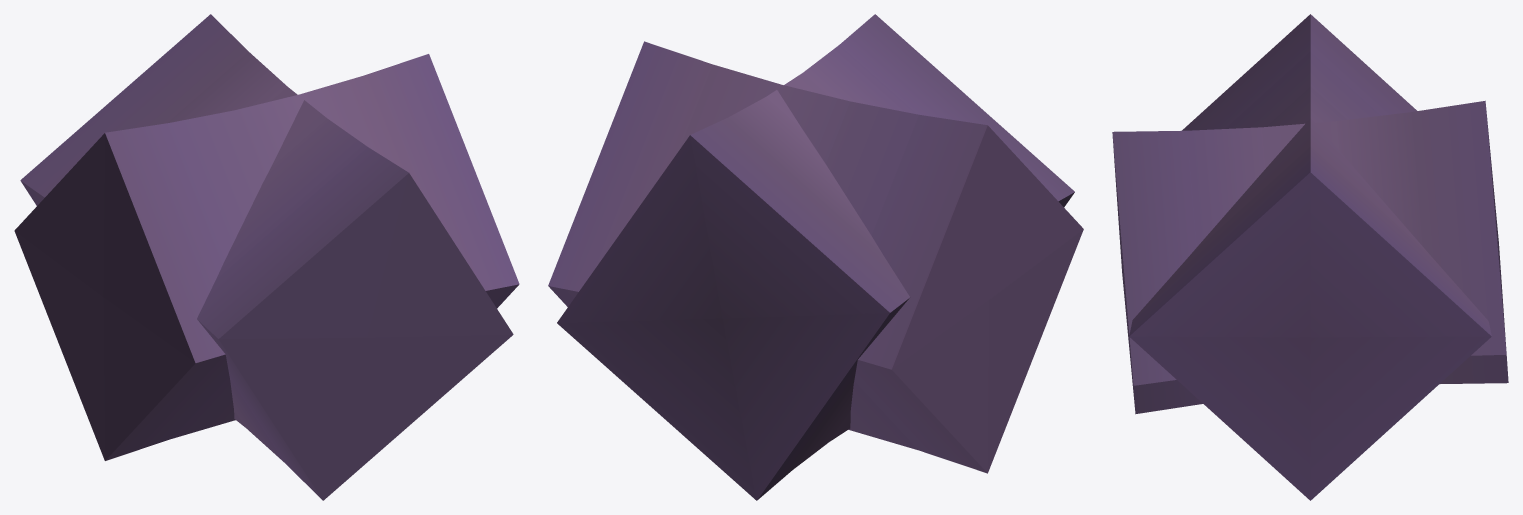
The model's file is Parical-Purple.gltf.
3 views of the same model, side by side, from view 1: azimuth 30°, elevation 25°; view 2: azimuth 150°, elevation 25°; view 3: azimuth 270°, elevation 25° (orthographic). The views are drawn at different scales.
Parts seen in each view (by area): view 1: NewLayer2; view 2: NewLayer2; view 3: NewLayer2.
Part boxes in pixels (x1,y1,x2,y2): NewLayer2: (14, 14, 519, 500); NewLayer2: (548, 14, 1083, 500); NewLayer2: (1112, 14, 1508, 500).
Bounding box in the file's own units: 0.344 × 0.3453 × 0.3605.
